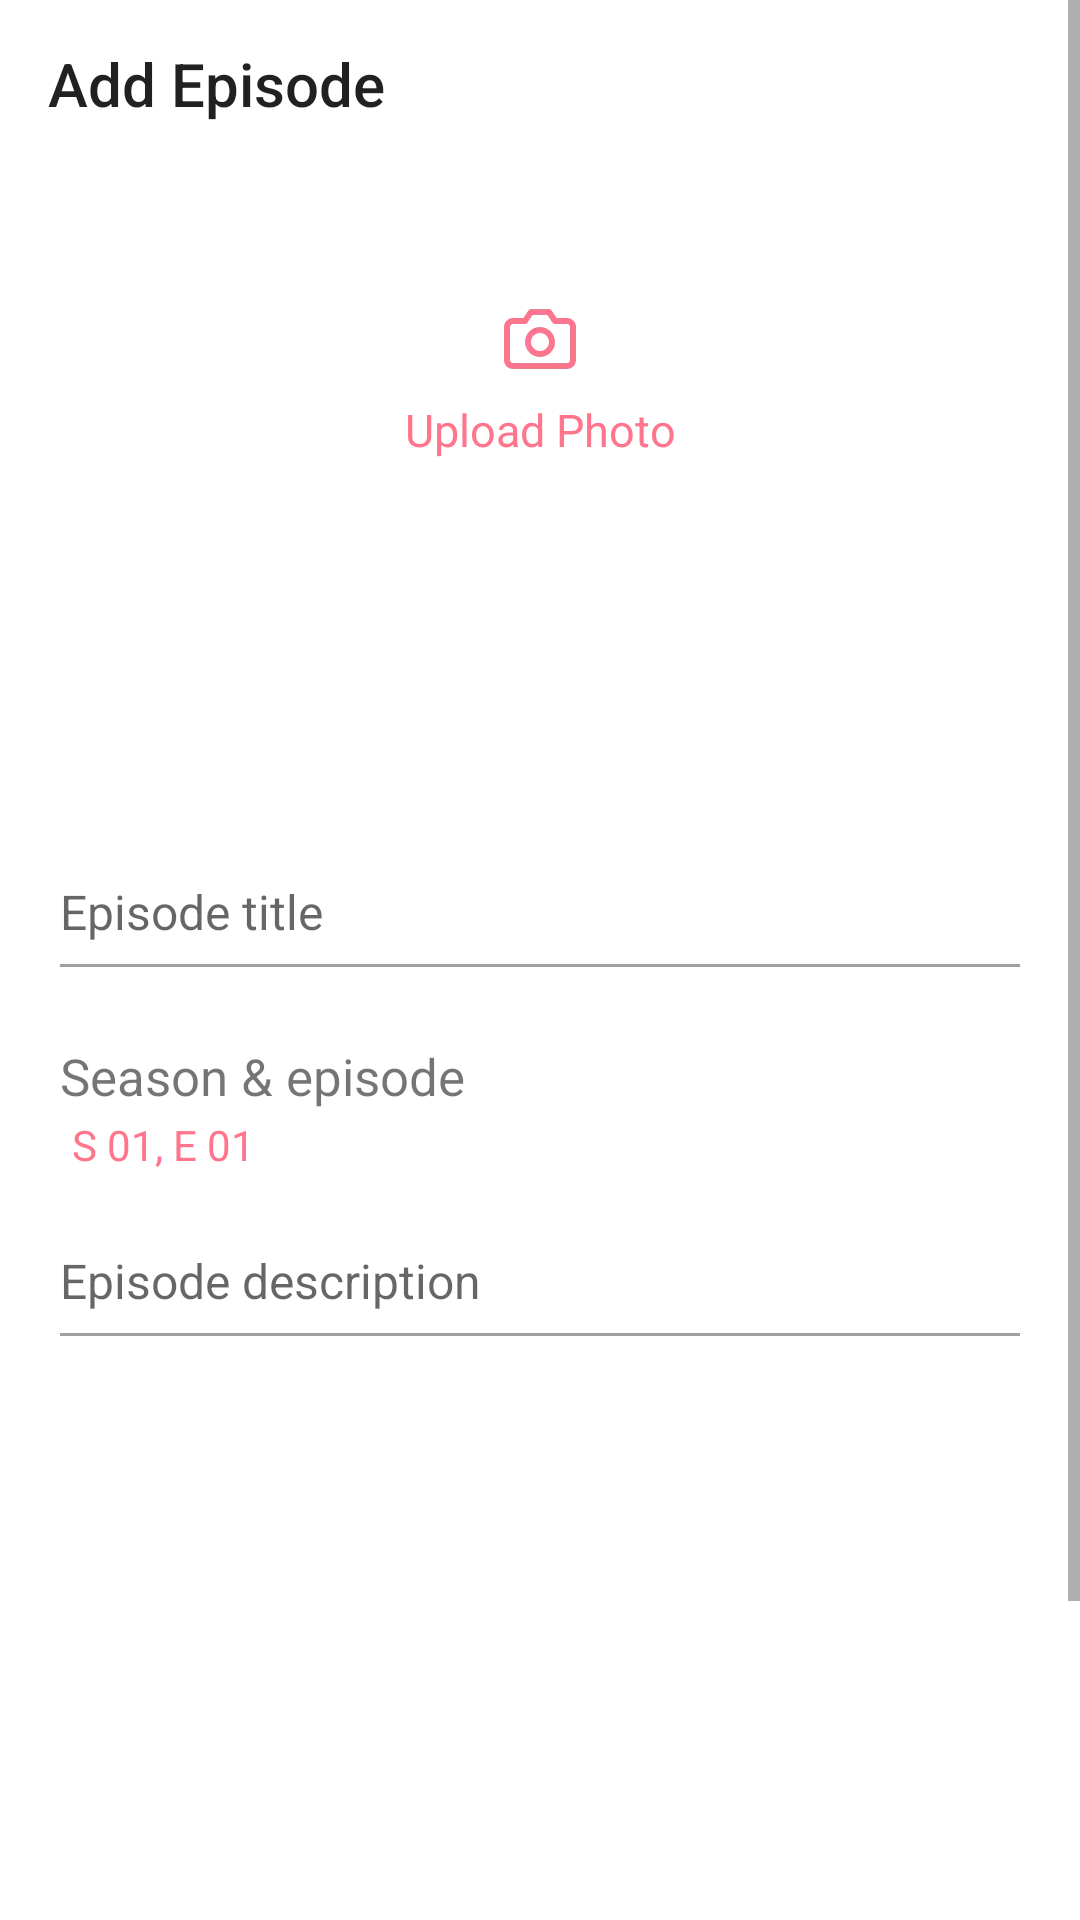

Named icons in this screenshot (1080px×1920px) and their bounding boxes, (x1, y1, x2, y2):
camera: (504, 309, 576, 369)
